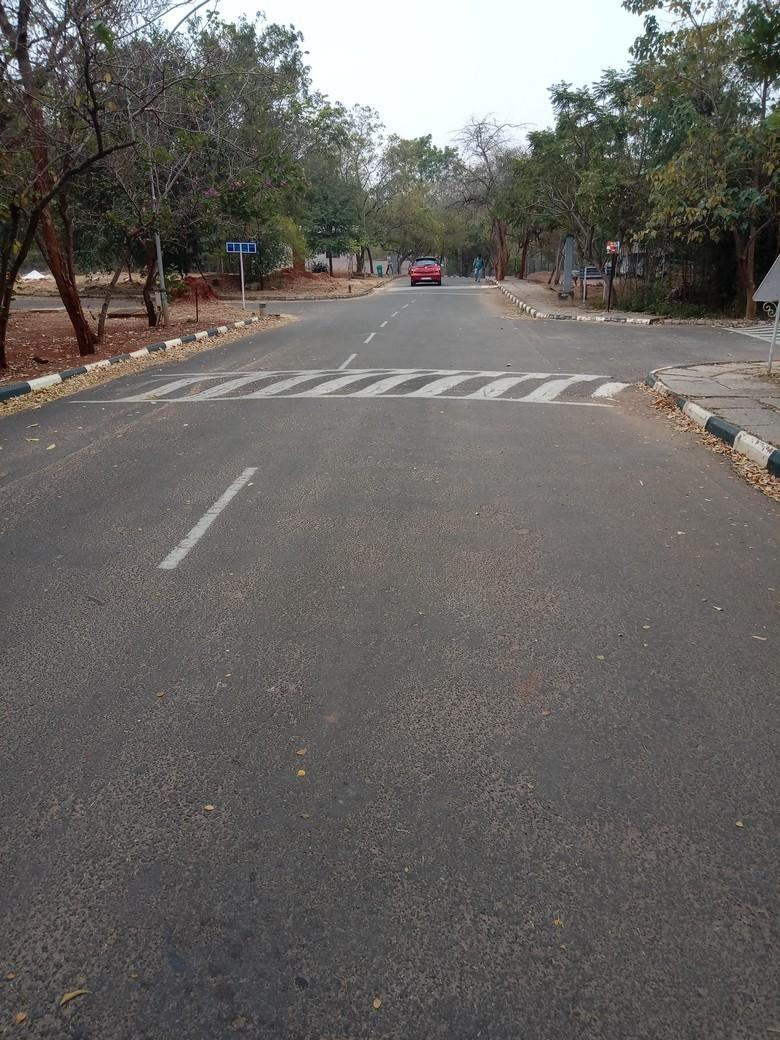speed-bump: (80, 370, 652, 411)
